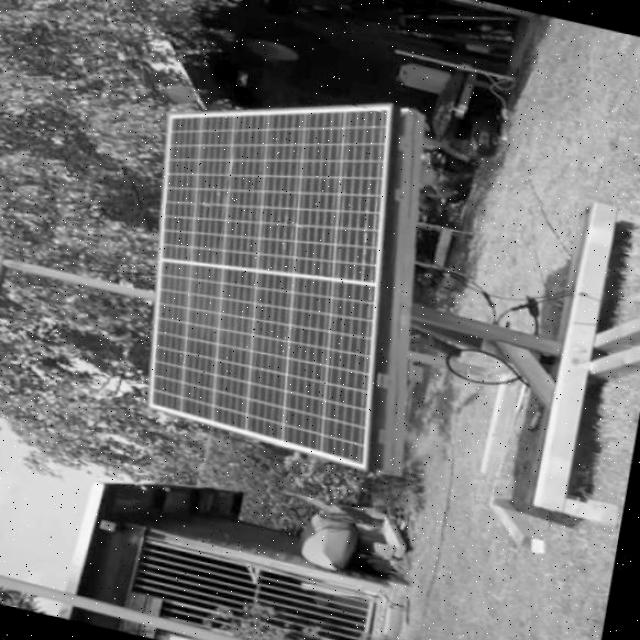Normal Solar Panel: (120, 65, 432, 477)
